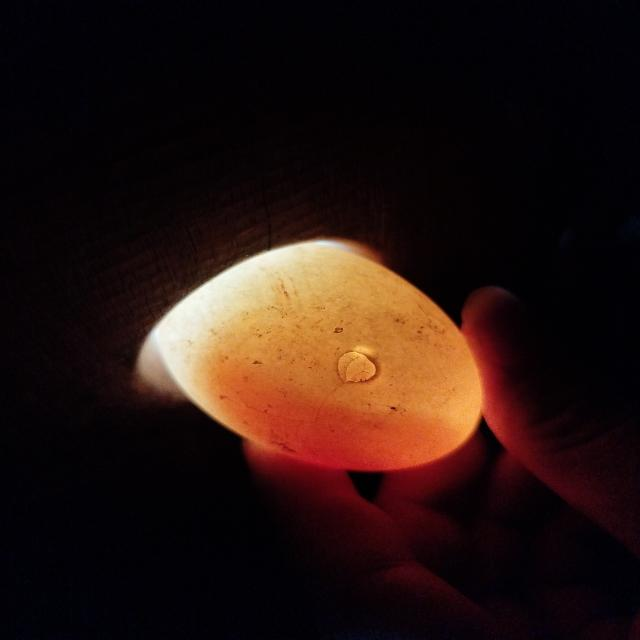Gema Quebrada: (200, 355, 469, 470)
Rachadura: (337, 351, 376, 382)
